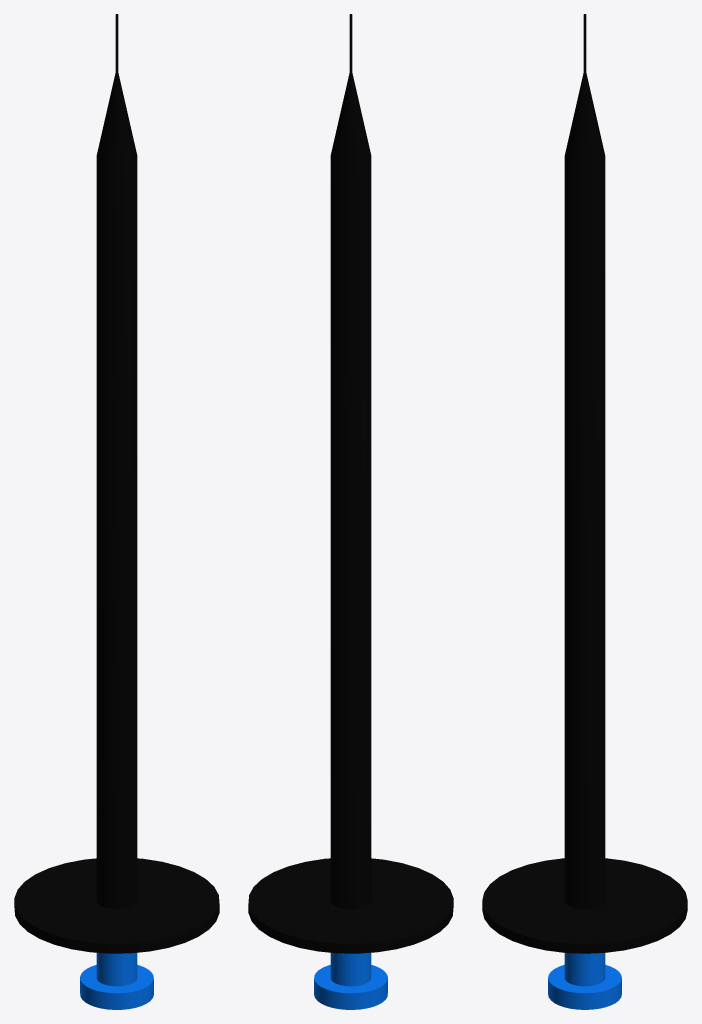
Rendered from needle_full.glb.
3 renders of one model, left to right at view 1: azimuth 30°, elevation 25°; view 2: azimuth 150°, elevation 25°; view 3: azimuth 270°, elevation 25°, orthographic.
Visible parts, largest first — view 1: needle_dib; view 2: needle_dib; view 3: needle_dib.
Boxes of the visible parts, x1,y1,x2,y2 form: needle_dib: (14, 14, 219, 1009); needle_dib: (248, 14, 453, 1009); needle_dib: (482, 14, 687, 1009).
Bounding box in the file's own units: 0.0251 × 0.132 × 0.0251.
